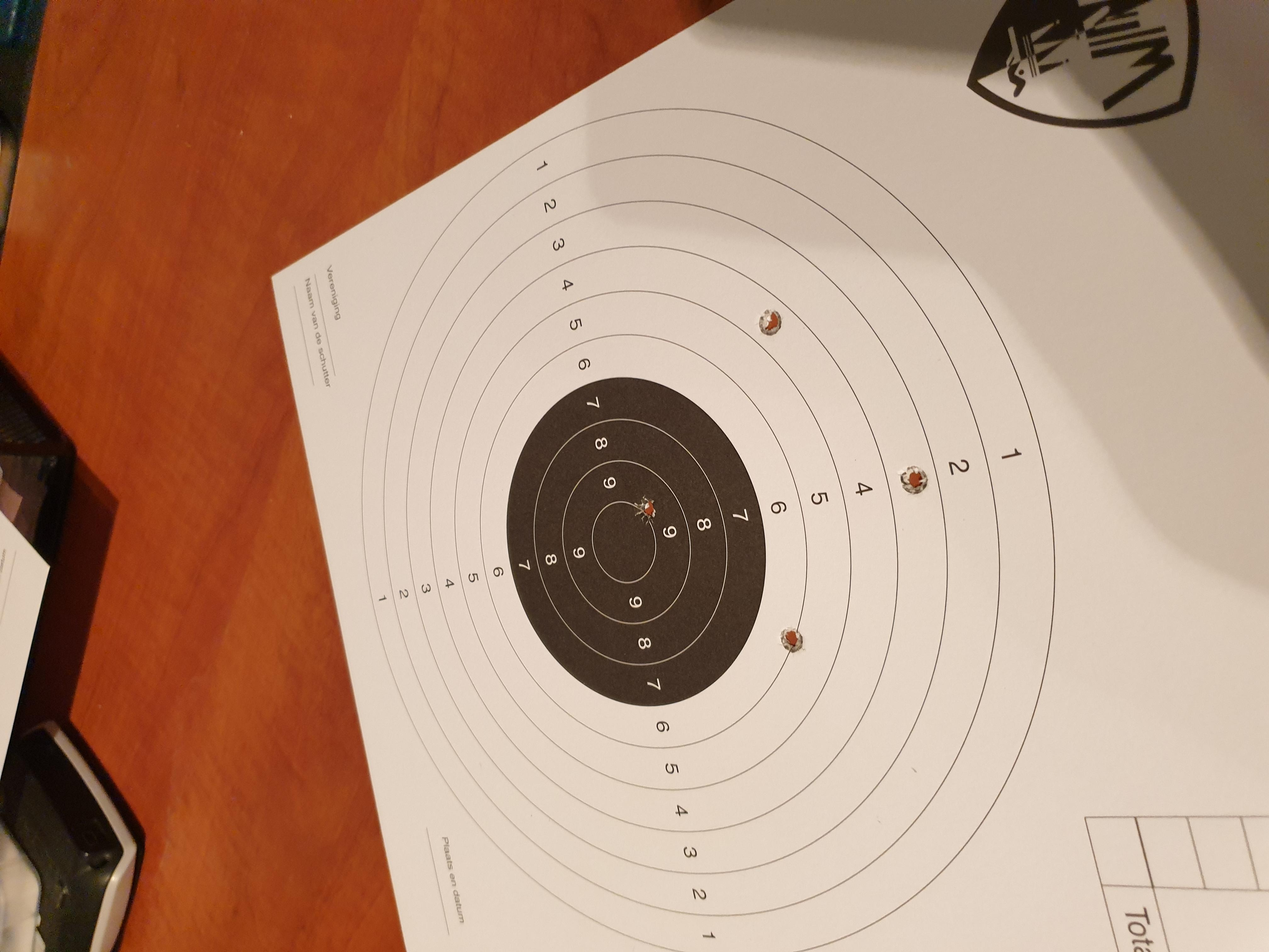hole: (606, 674, 649, 697), (567, 474, 611, 493), (396, 584, 434, 605), (820, 567, 858, 587)
